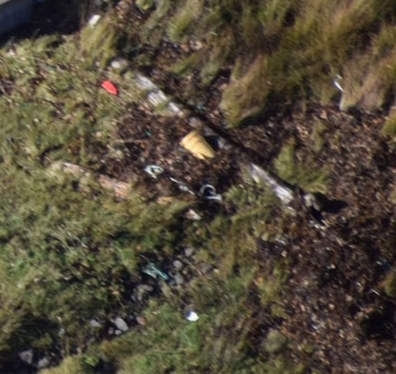scattered_barrel: (90, 72, 232, 205)
straight_bar: (108, 48, 324, 222), (45, 153, 207, 224)
white_in_green: (162, 116, 238, 177), (119, 240, 185, 296), (86, 65, 134, 108), (172, 296, 217, 335)
